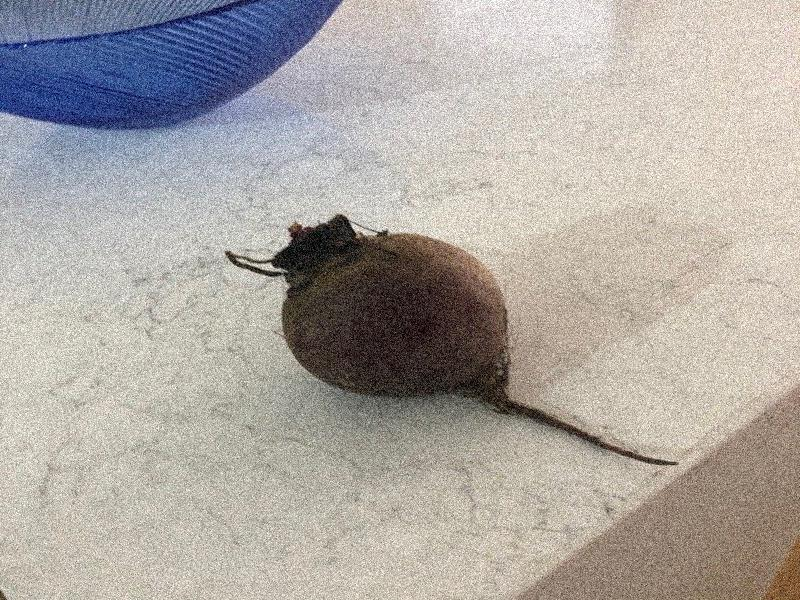Beet: (228, 216, 675, 467)
